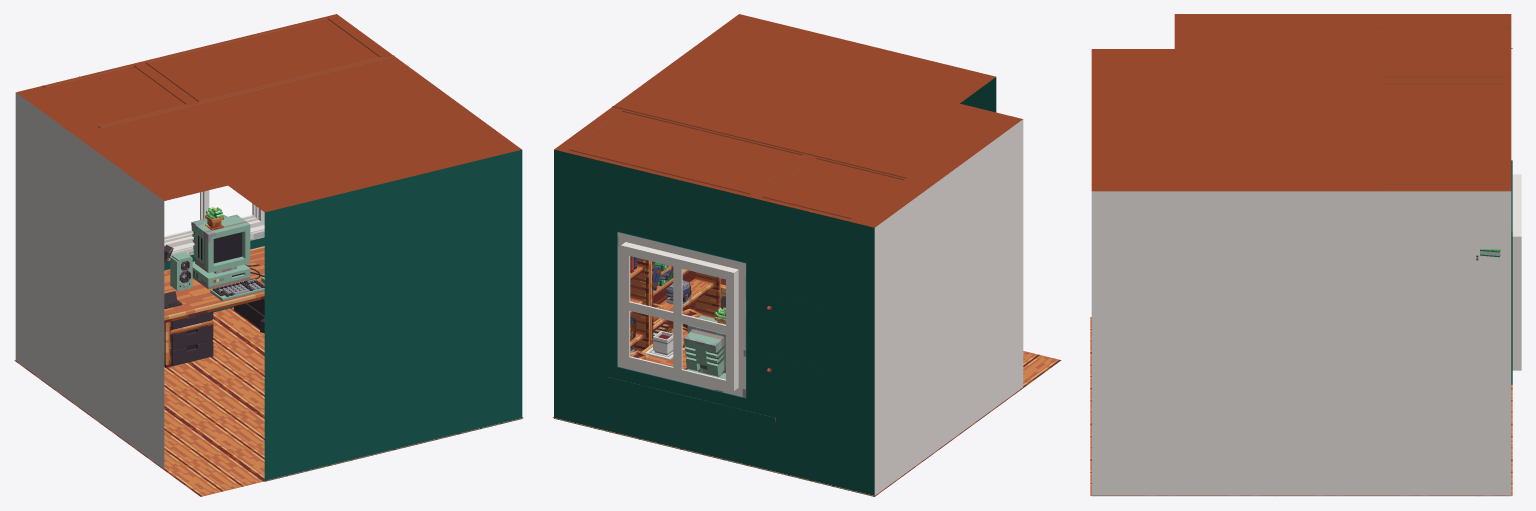
Rendered from VoxelRoomBlend-transformed.glb.
The picture shows the model from 3 angles, left to right: view 1: azimuth 30°, elevation 25°; view 2: azimuth 150°, elevation 25°; view 3: azimuth 270°, elevation 25°; orthographic projection. The views are drawn at different scales.
Parts seen in each view (by area): view 1: VoxelRoom; view 2: VoxelRoom; view 3: VoxelRoom.
Part boxes in pixels (<box>): VoxelRoom: <box>14,14,523,496</box>; VoxelRoom: <box>552,14,1061,496</box>; VoxelRoom: <box>1090,14,1521,496</box>.
Size of the model in its own units: 3.22 by 2.56 by 3.27.
1 material, 1 textured.
